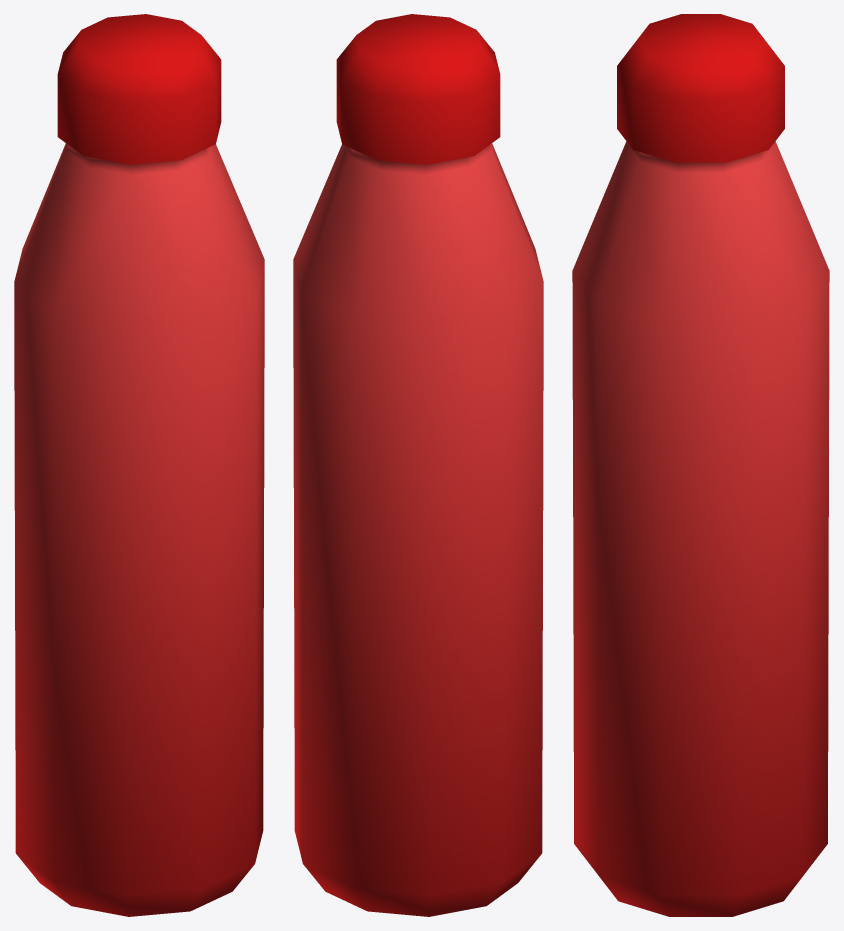
File: bottle2_red.fbx
The picture shows the model from 3 angles, left to right: view 1: azimuth 30°, elevation 25°; view 2: azimuth 150°, elevation 25°; view 3: azimuth 270°, elevation 25°; orthographic projection.
Visible parts, largest first — view 1: bottle2_red; view 2: bottle2_red; view 3: bottle2_red.
Boxes of the visible parts, box(x1,y1,x2,y2) form: bottle2_red: box(14, 14, 264, 916); bottle2_red: box(293, 14, 543, 916); bottle2_red: box(572, 14, 829, 916).
Bounding box in the file's own units: 49.11 × 185 × 51.63.
